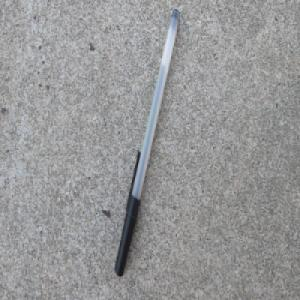Pen: (112, 7, 181, 279)
